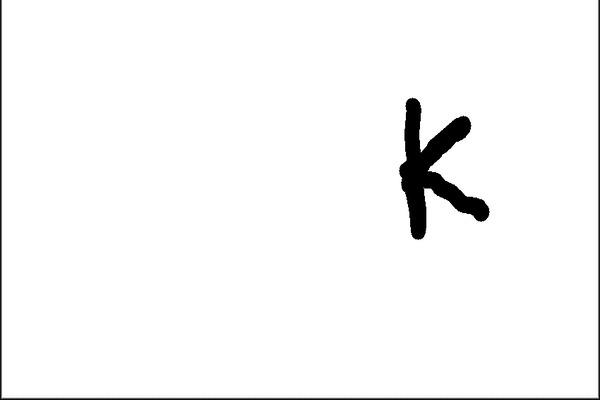K: (386, 88, 500, 247)
